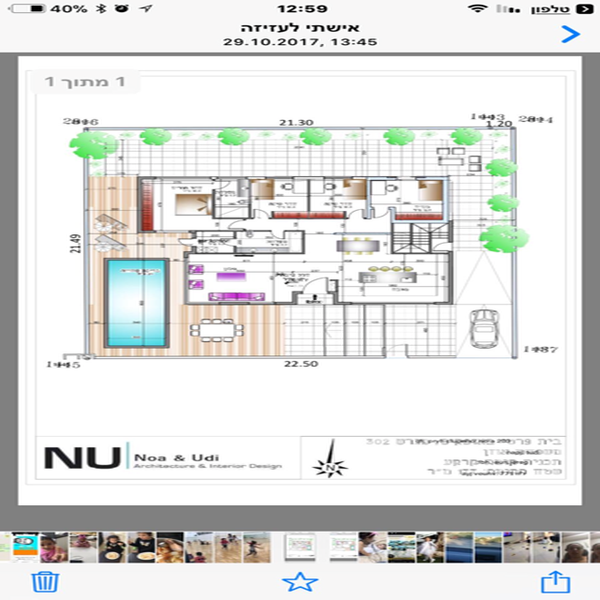room: (178, 254, 301, 309), (336, 249, 455, 304), (141, 178, 249, 232), (365, 176, 449, 226)
